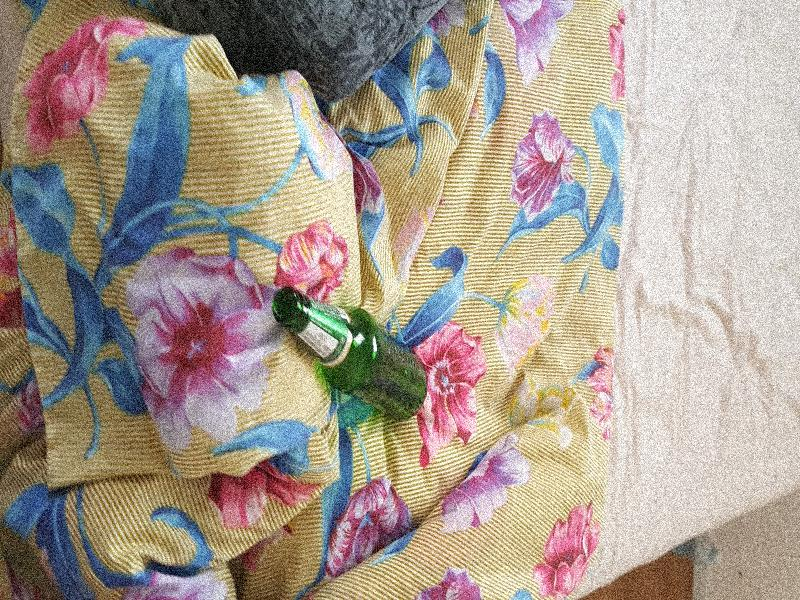Beer: (270, 289, 426, 420)
